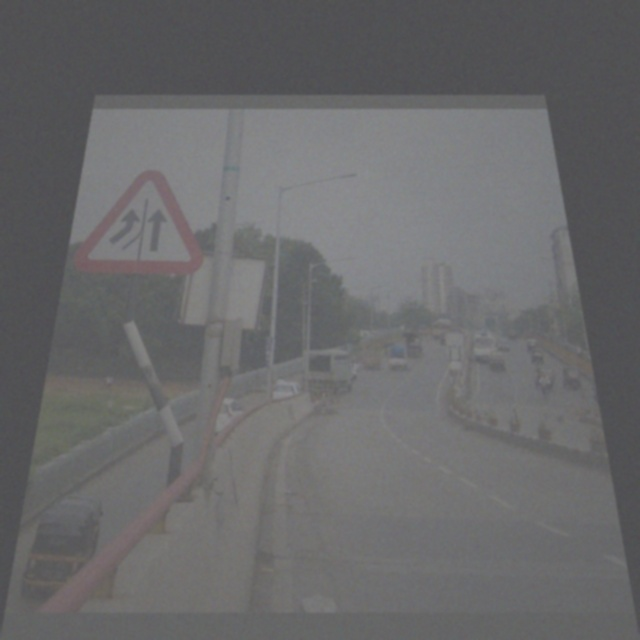Merge_Traffic_Ahead: (84, 162, 195, 281)
